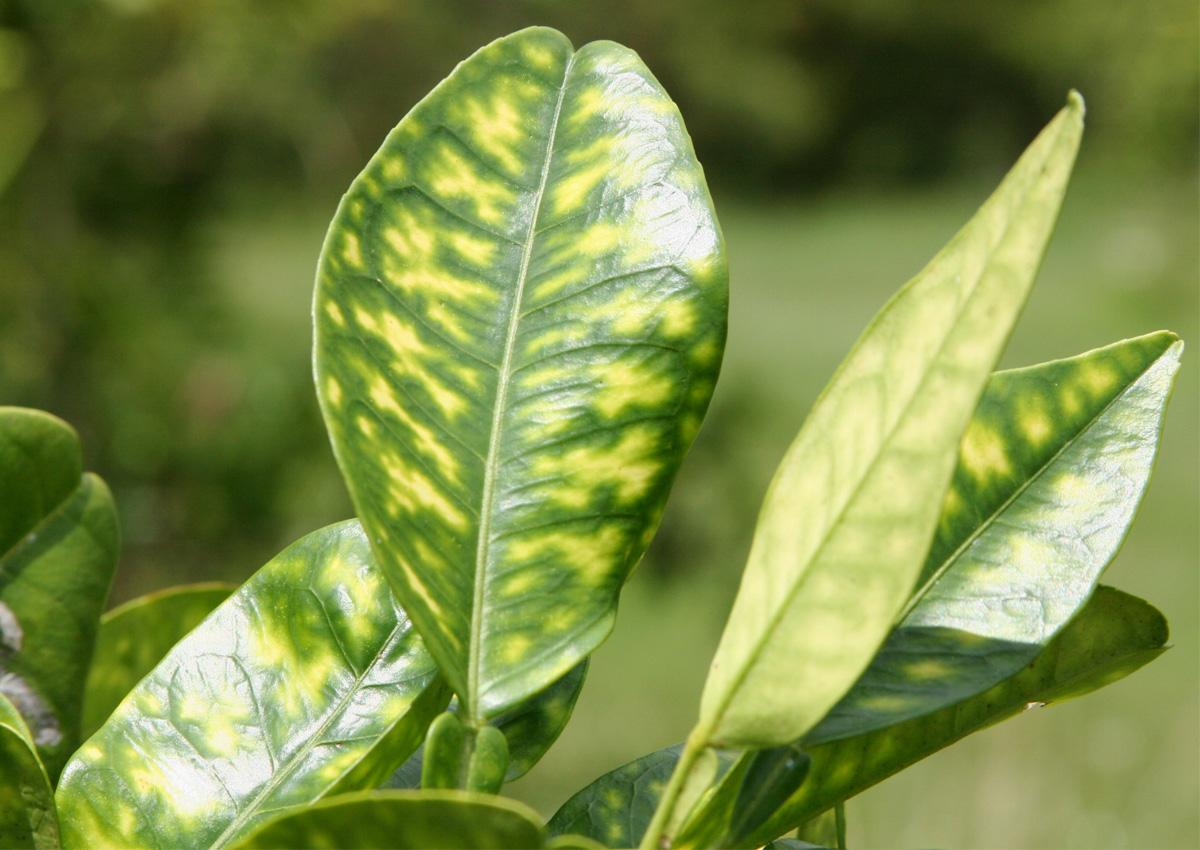Citrus Greening: (312, 32, 729, 721)
